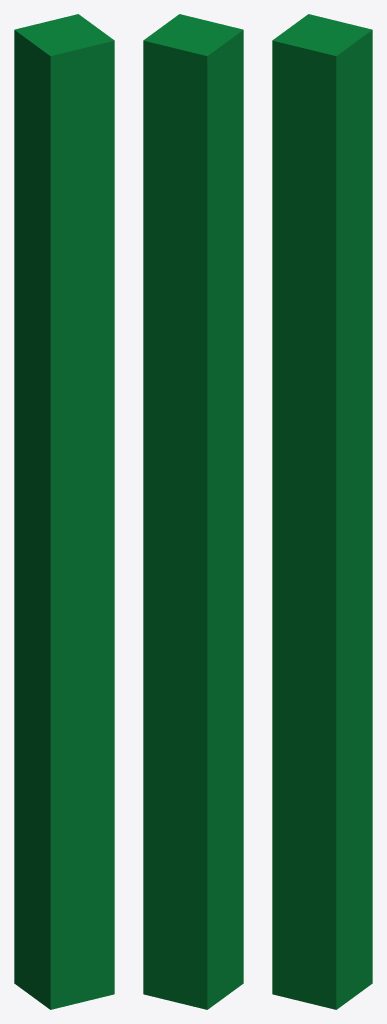
The model's file is hanginglightspost.dae.
3 renders of one model, left to right at view 1: azimuth 30°, elevation 25°; view 2: azimuth 150°, elevation 25°; view 3: azimuth 330°, elevation 25°, orthographic.
Parts seen in each view (by area): view 1: bounds; view 2: bounds; view 3: bounds.
Part boxes in pixels (box(x1,y1,x2,y2)): bounds: box(14, 14, 114, 1009); bounds: box(143, 14, 243, 1009); bounds: box(272, 14, 372, 1009).
Size of the model in its own units: 0.3108 by 0.3042 by 4.41.
